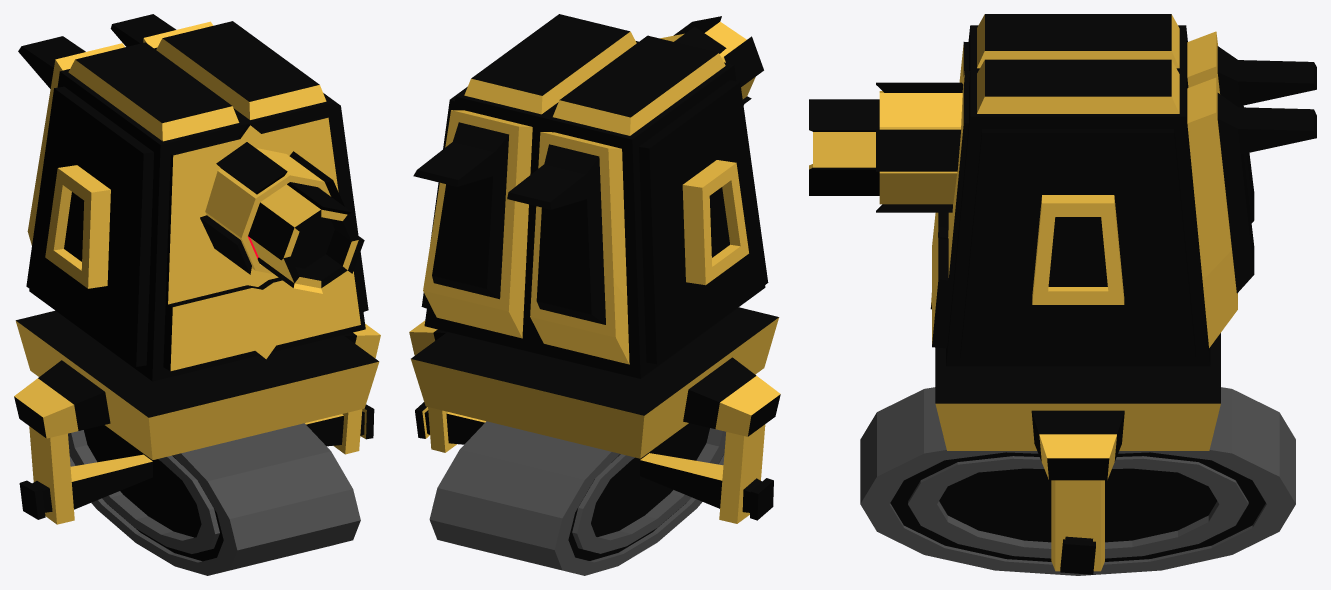
The model's file is Steve.glb.
3 views of the same model, side by side, from view 1: azimuth 30°, elevation 25°; view 2: azimuth 150°, elevation 25°; view 3: azimuth 270°, elevation 25° (orthographic). The views are drawn at different scales.
Visible parts, largest first — view 1: Body, Wheels, Blaster; view 2: Body, Wheels, Blaster; view 3: Body, Wheels, Blaster.
Part boxes in pixels (x1,y1,x2,y2): Body: (14,14,380,524); Wheels: (68,423,360,575); Blaster: (200,142,364,293); Body: (409,14,780,523); Wheels: (429,421,725,575); Blaster: (660,16,763,105); Body: (930,14,1316,574); Wheels: (860,387,1295,575); Blaster: (809,82,963,212).
Size of the model in its own units: 3.18 by 4.08 by 3.84.
